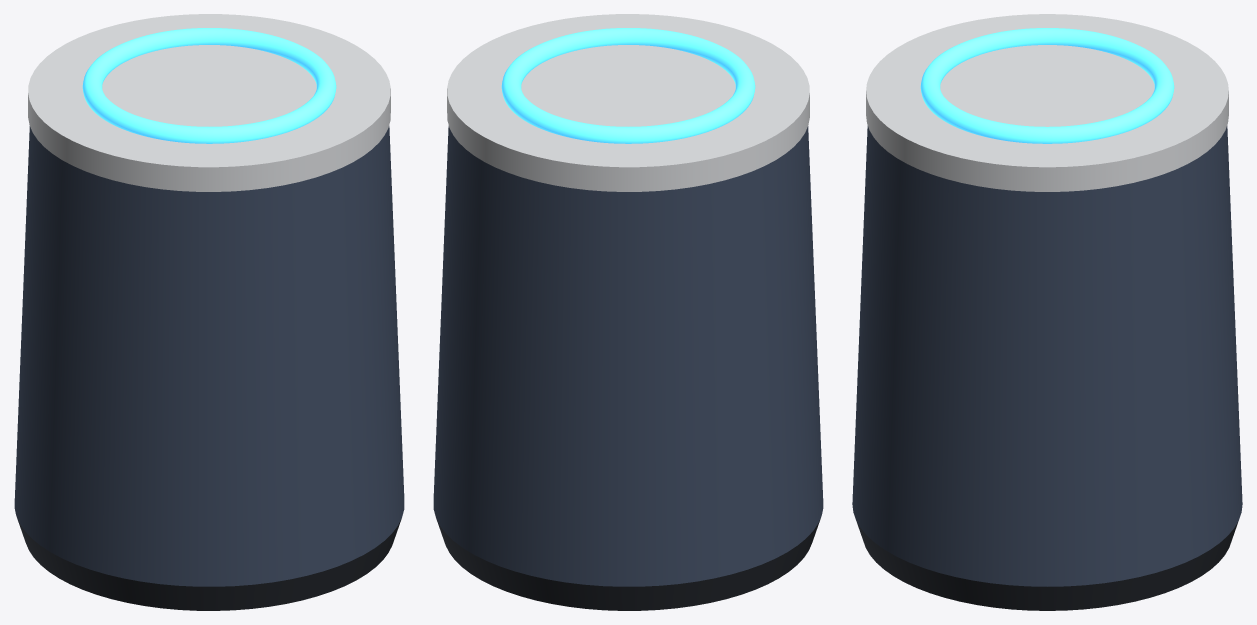
Rendered from speaker.glb.
3 renders of one model, left to right at view 1: azimuth 30°, elevation 25°; view 2: azimuth 150°, elevation 25°; view 3: azimuth 270°, elevation 25°, orthographic.
Parts seen in each view (by area): view 1: 外壳, 顶盖, 灯环, 底座; view 2: 外壳, 顶盖, 灯环, 底座; view 3: 外壳, 顶盖, 灯环, 底座.
Part boxes in pixels (x1,y1,x2,y2): 外壳: [14, 126, 404, 586]; 顶盖: [28, 14, 390, 191]; 灯环: [82, 28, 336, 143]; 底座: [17, 518, 401, 610]; 外壳: [433, 126, 823, 586]; 顶盖: [447, 14, 809, 191]; 灯环: [501, 28, 755, 143]; 底座: [436, 518, 820, 610]; 外壳: [852, 125, 1242, 586]; 顶盖: [866, 14, 1228, 191]; 灯环: [920, 28, 1174, 143]; 底座: [856, 521, 1238, 610].
Bounding box in the file's own units: 2 × 2.57 × 2.
